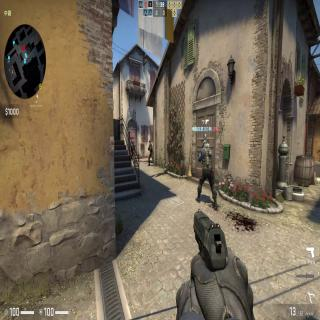CT-Body: (196, 140, 218, 209)
CT-Head: (202, 140, 210, 148)
T-Body: (147, 141, 154, 166)
T-Head: (131, 137, 133, 142), (149, 141, 151, 145)
